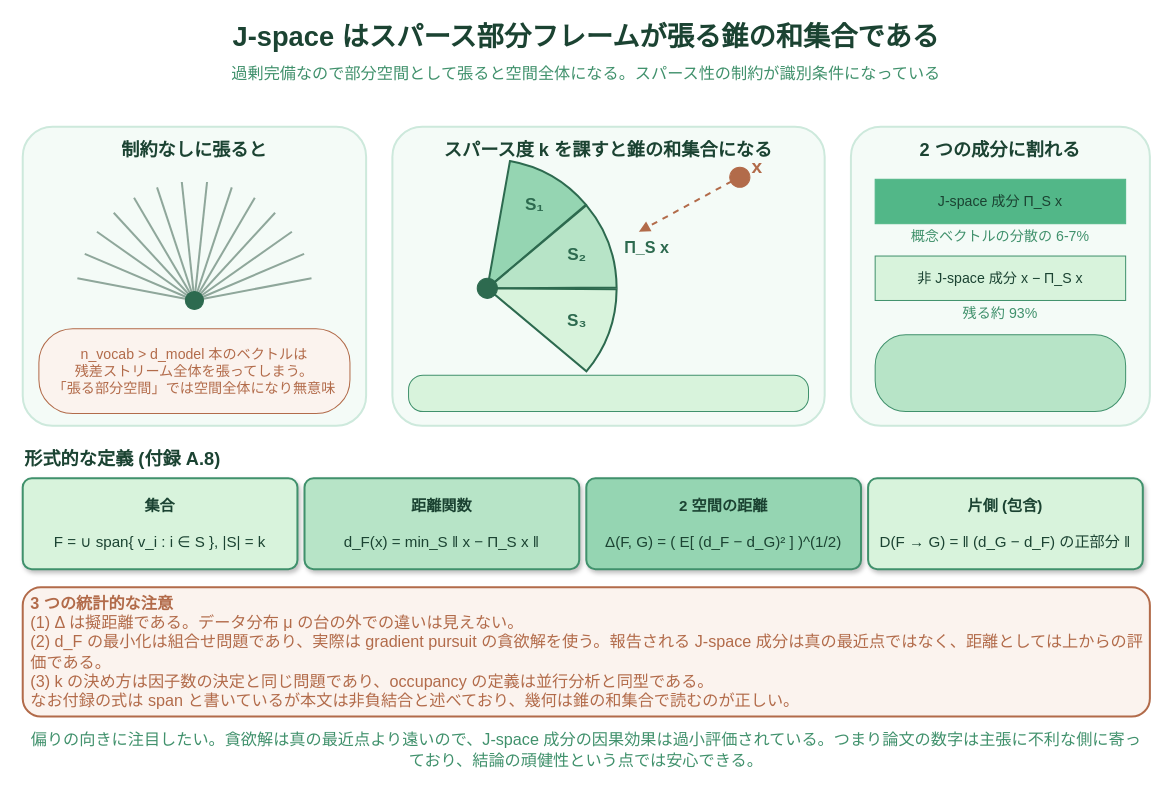
Image size: 1169x790. Some labels were removed from this diagram. The centre of each missing label's shape, as x and y in pixels:
"k 本ずつ選んだ錐が C(n, k) 個あり、その合併が J-space" belongs at (608,393).
"因果を担うのは 上の小さい方" belongs at (1000,373).
